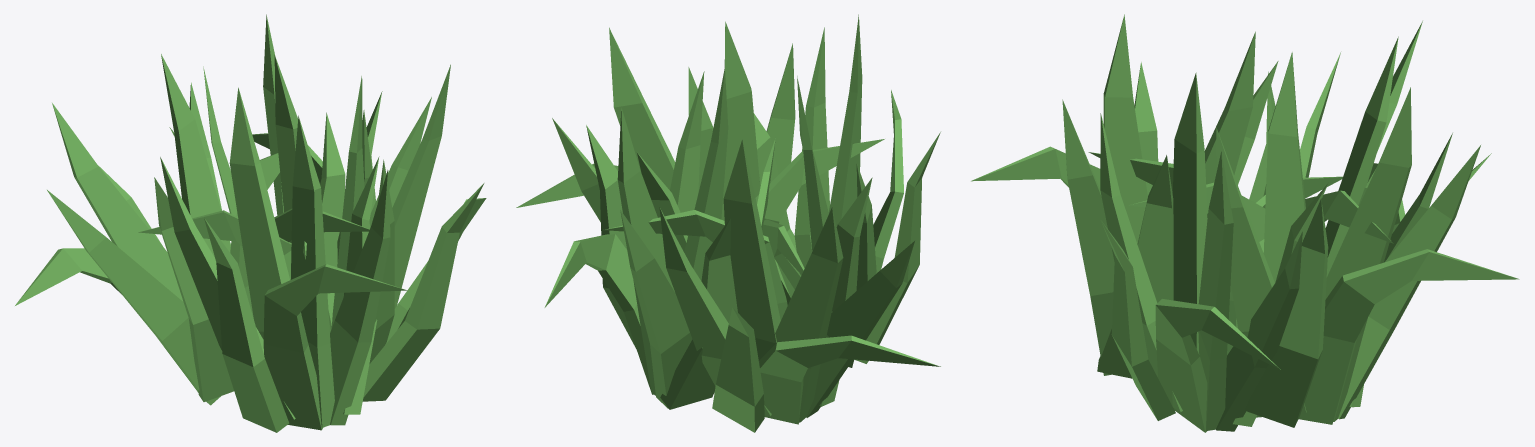
File: grass2.fbx
3 views of the same model, side by side, from view 1: azimuth 30°, elevation 25°; view 2: azimuth 150°, elevation 25°; view 3: azimuth 270°, elevation 25° (orthographic). The views are drawn at different scales.
Visible parts, largest first — view 1: grass major; view 2: grass major; view 3: grass major.
Boxes of the visible parts, x1,y1,x2,y2 form: grass major: (15,14,486,432); grass major: (516,14,940,432); grass major: (971,14,1519,432).
Bounding box in the file's own units: 228 × 167 × 224.
